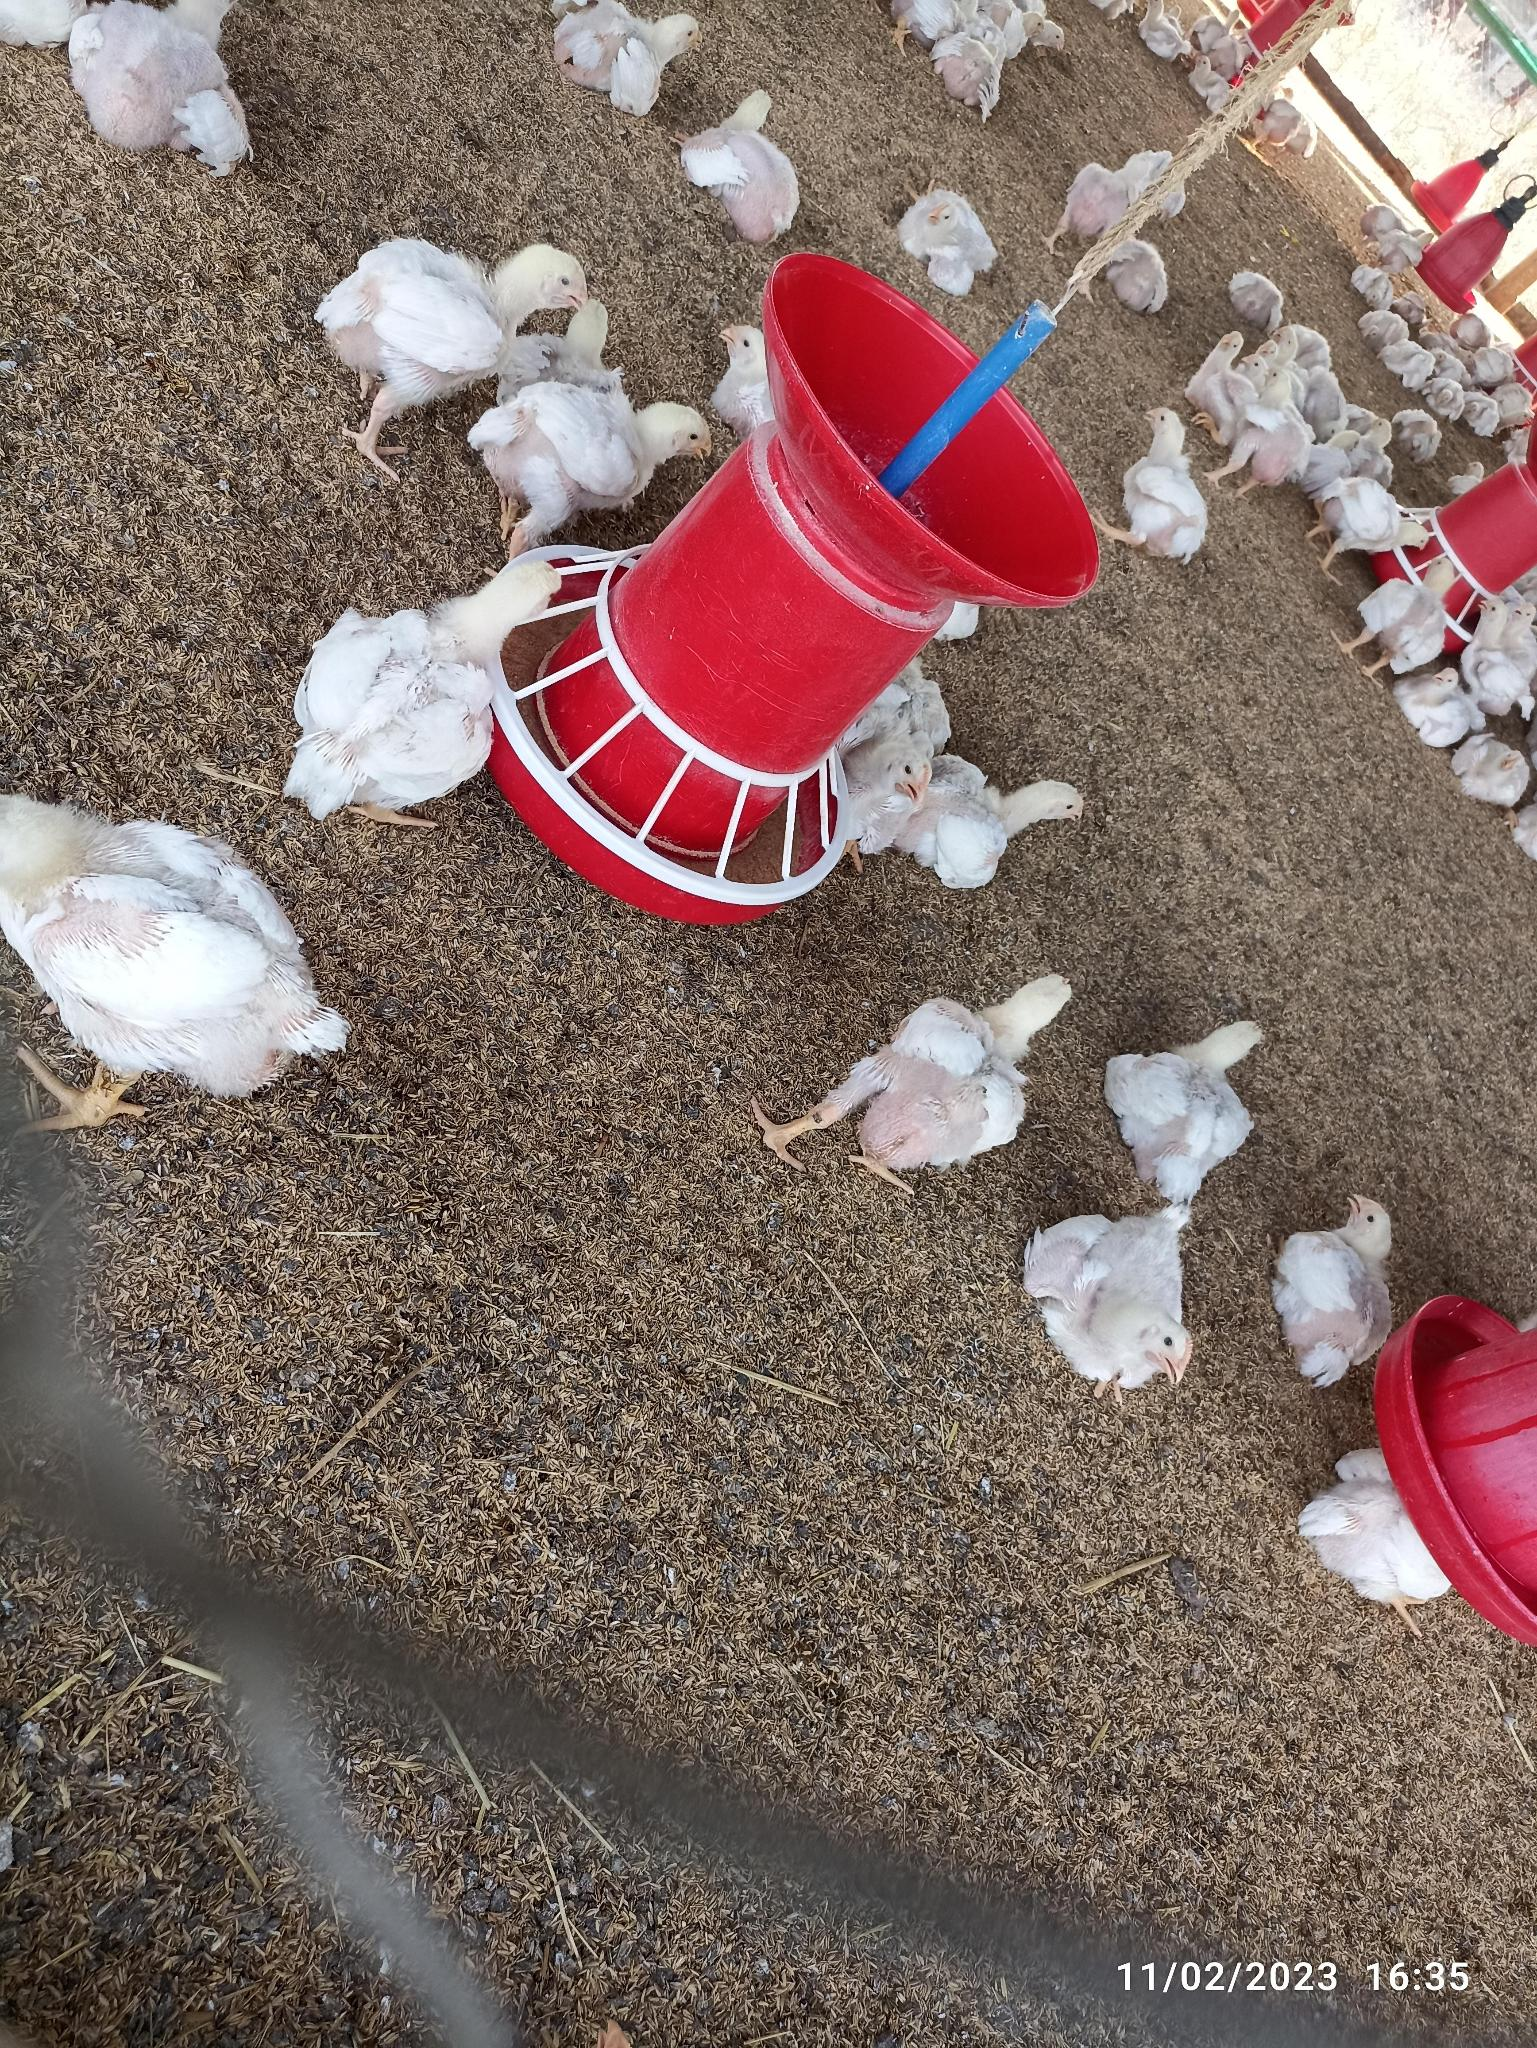Pollos: (2, 778, 342, 1109), (292, 550, 517, 807), (836, 976, 1087, 1168), (328, 236, 609, 374), (484, 391, 723, 533), (1037, 1194, 1204, 1390), (1108, 1018, 1272, 1186), (1271, 1193, 1405, 1381), (906, 750, 1096, 875), (685, 86, 801, 255), (555, 3, 715, 103), (1114, 407, 1209, 557), (1367, 563, 1489, 657), (1330, 463, 1439, 558), (906, 186, 993, 290), (1469, 726, 1532, 807)
